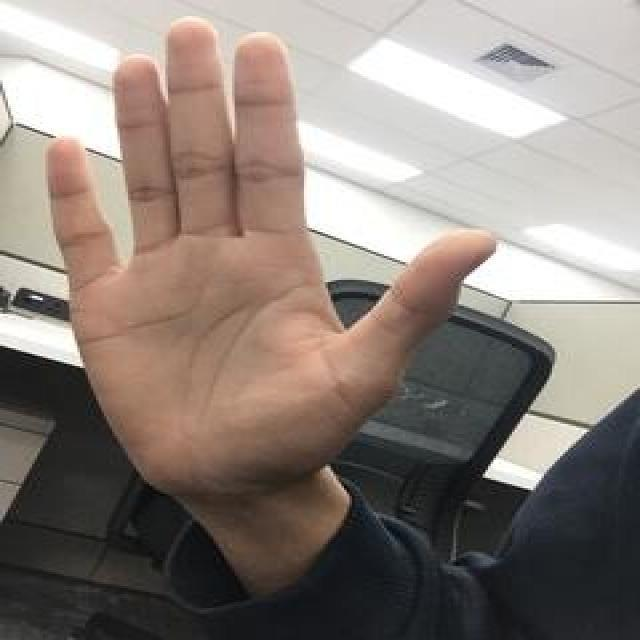hand: (48, 16, 512, 500)
